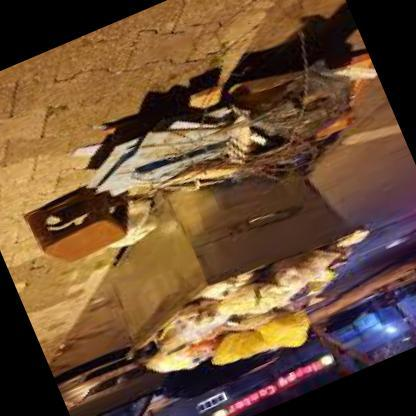Garbage: (89, 0, 377, 232), (118, 228, 409, 415), (202, 302, 320, 380), (148, 284, 247, 350), (193, 256, 292, 310), (214, 268, 298, 329), (143, 326, 228, 383), (260, 240, 338, 296), (332, 226, 372, 260)
